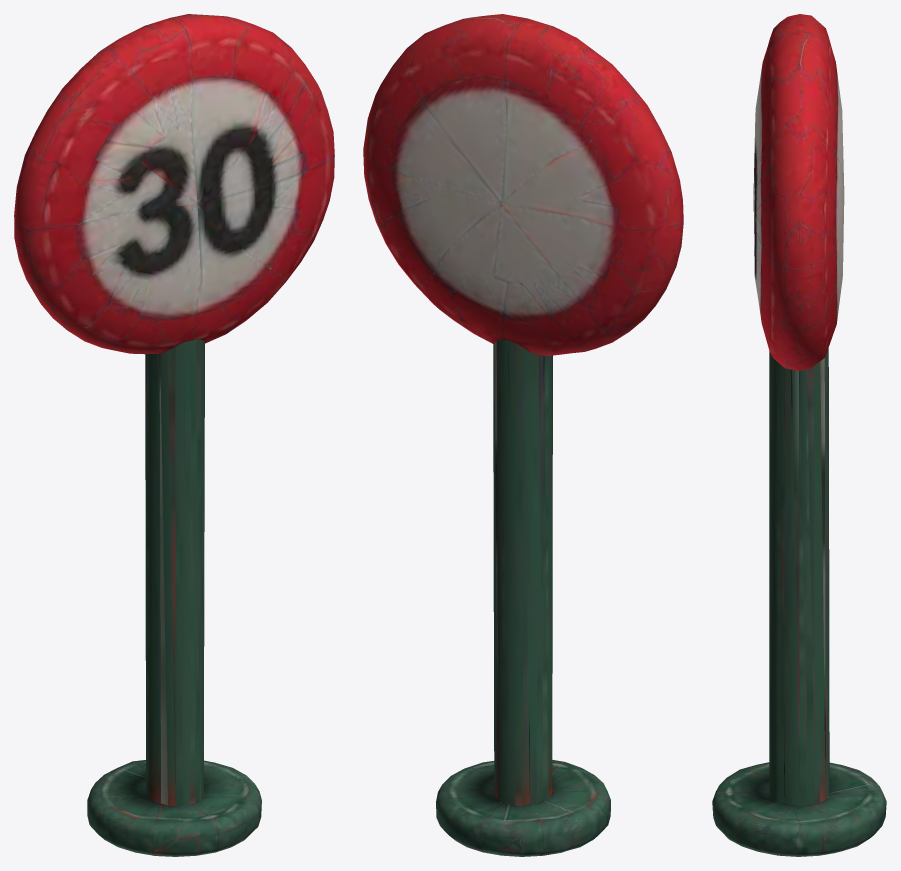
Rendered from speed-30.glb.
3 renders of one model, left to right at view 1: azimuth 30°, elevation 25°; view 2: azimuth 150°, elevation 25°; view 3: azimuth 270°, elevation 25°, orthographic.
Parts seen in each view (by area): view 1: geometry_0; view 2: geometry_0; view 3: geometry_0.
Boxes of the visible parts, bbox=[...] form: geometry_0: bbox=[14, 14, 334, 856]; geometry_0: bbox=[363, 14, 683, 856]; geometry_0: bbox=[712, 14, 886, 856].
Size of the model in its own units: 0.4104 by 1 by 0.1996.
1 material, 1 textured.
